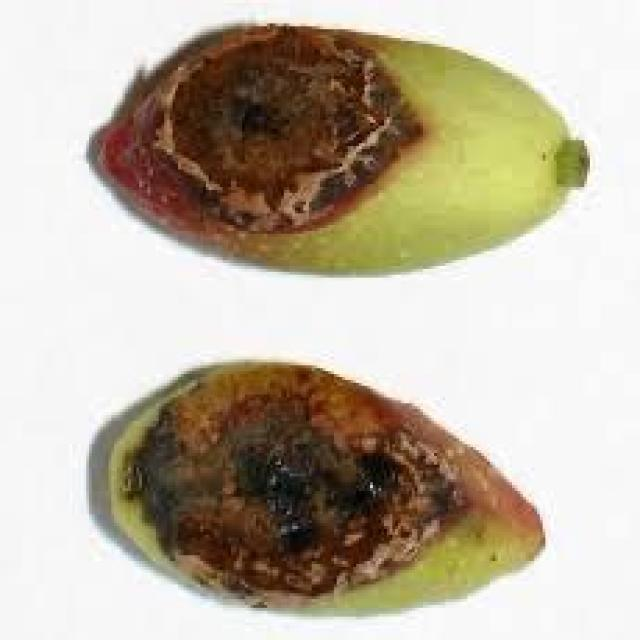Anthracnose: (91, 24, 584, 272), (89, 362, 543, 610)
